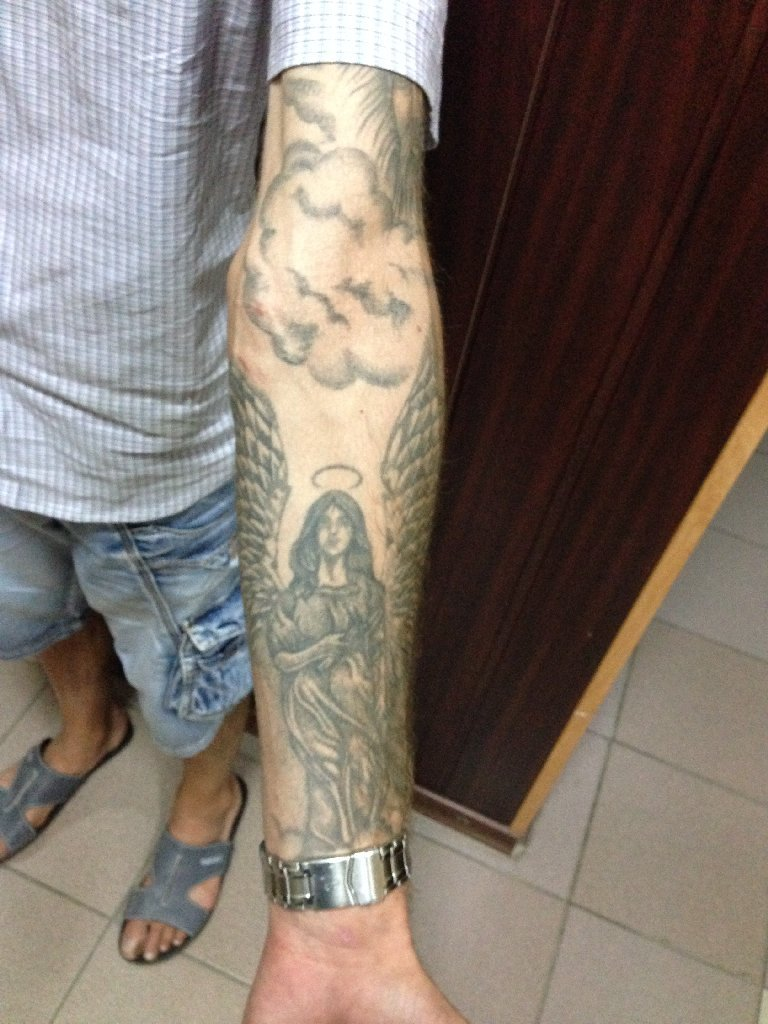tatu1_angel: (226, 361, 451, 831)
